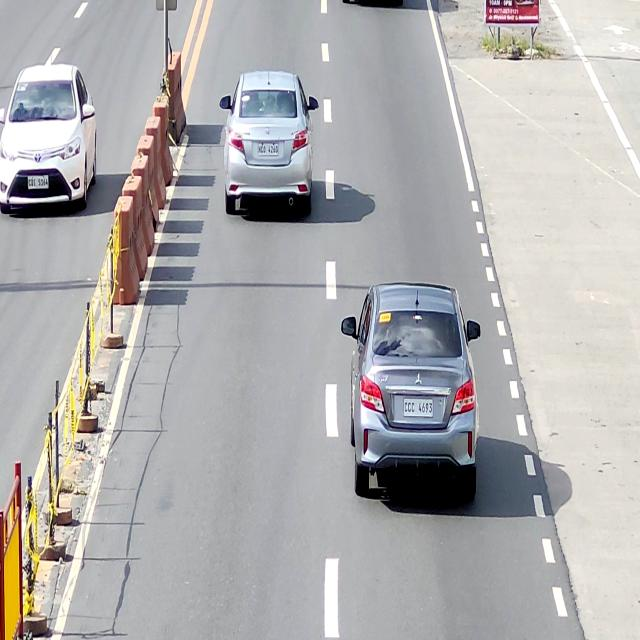Car: (340, 281, 480, 500), (0, 62, 97, 214), (219, 69, 318, 215)
License-Plate: (402, 396, 434, 417), (26, 170, 50, 194), (255, 139, 282, 160)
